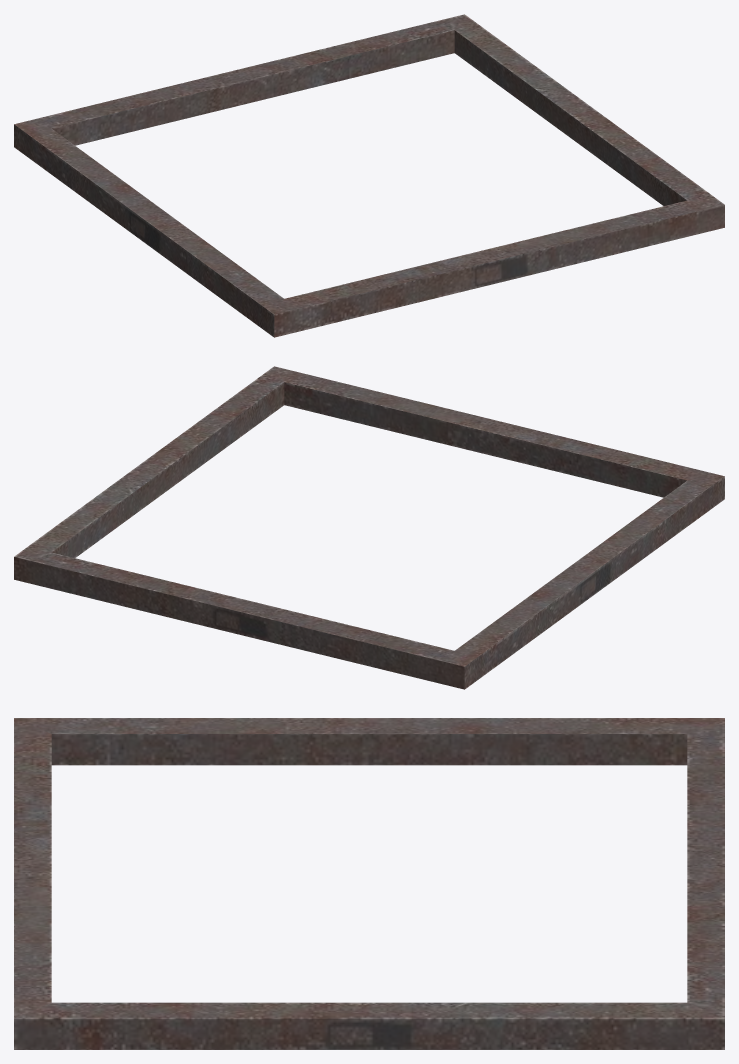
The model's file is armored_floor_frame_square_textured.glb.
3 views of the same model, one above another, from view 1: azimuth 30°, elevation 25°; view 2: azimuth 150°, elevation 25°; view 3: azimuth 270°, elevation 25° (orthographic). The views are drawn at different scales.
Parts seen in each view (by area): view 1: Cube.001; view 2: Cube.001; view 3: Cube.001.
Part boxes in pixels (<box>): Cube.001: <box>14,14,724,337</box>; Cube.001: <box>14,366,724,689</box>; Cube.001: <box>14,718,724,1049</box>.
Size of the model in its own units: 1.99 by 0.0969 by 1.99.
1 material, 1 textured.
